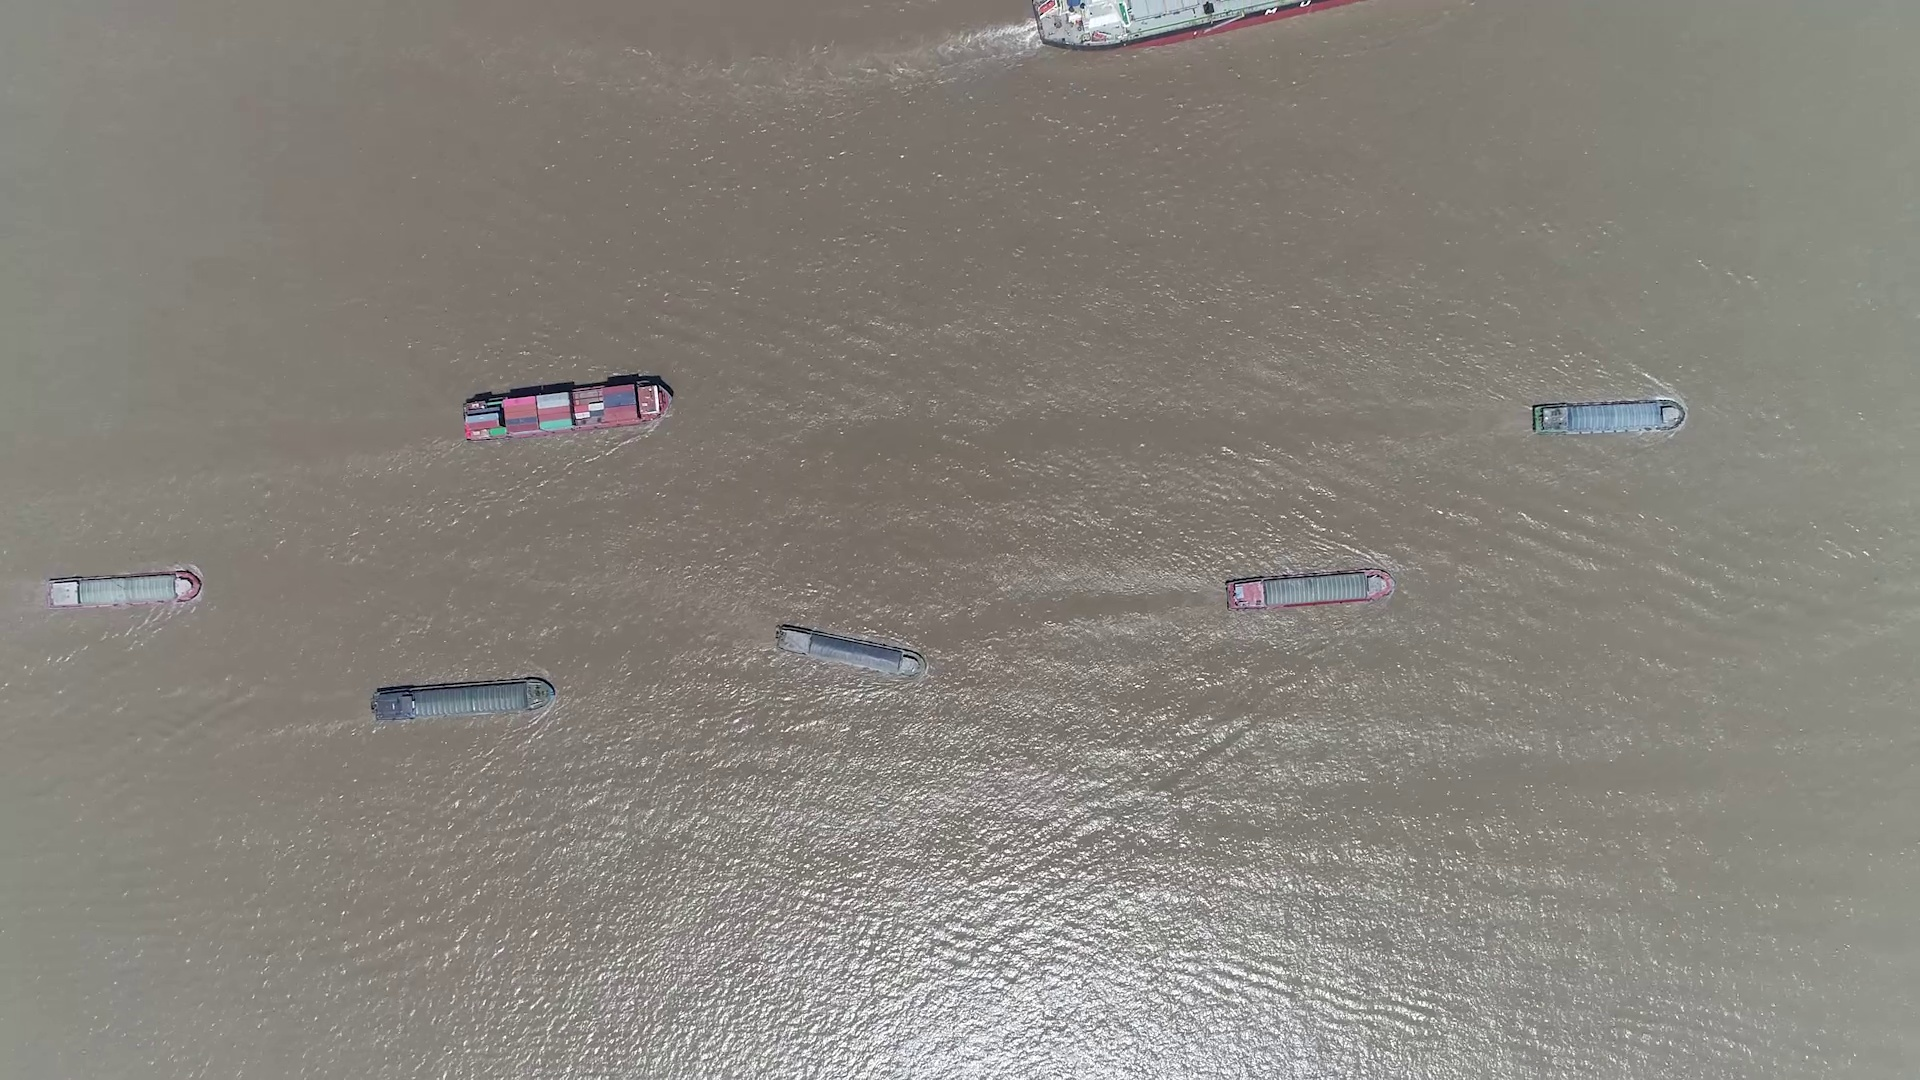ship: (1033, 3, 1360, 50), (462, 377, 673, 442), (373, 676, 556, 723), (775, 624, 926, 679), (1226, 568, 1396, 611), (44, 571, 202, 609), (1531, 400, 1684, 435)
